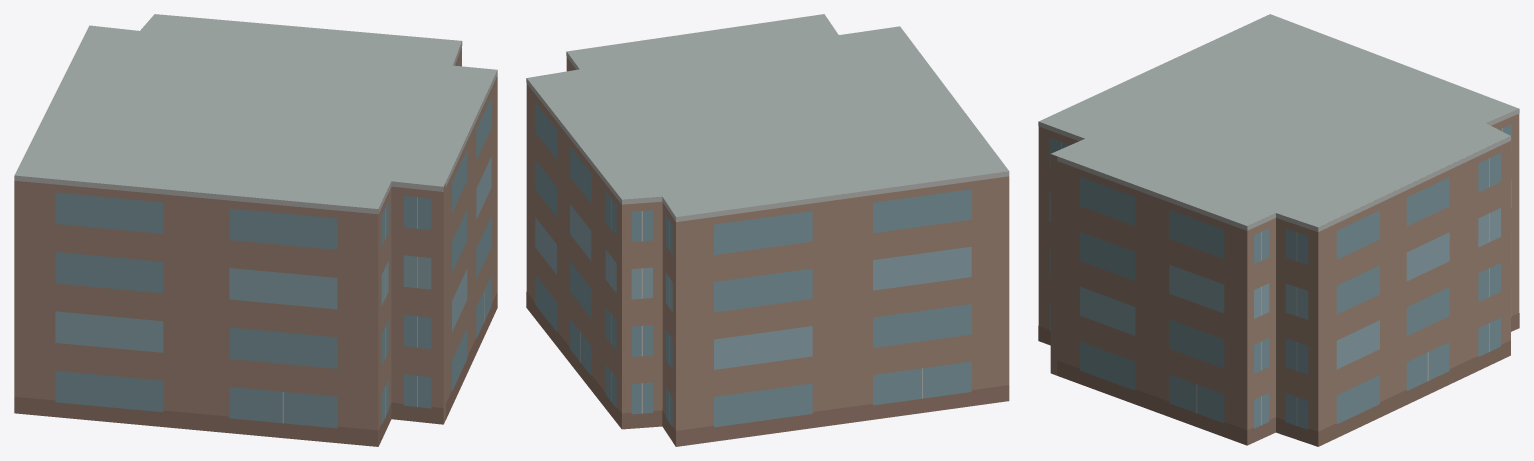
The model's file is survey-upis-32524465.glb.
The picture shows the model from 3 angles, left to right: view 1: azimuth 30°, elevation 25°; view 2: azimuth 150°, elevation 25°; view 3: azimuth 270°, elevation 25°; orthographic projection. The views are drawn at different scales.
Visible parts, largest first — view 1: survey-upis-32524465.tmp; view 2: survey-upis-32524465.tmp; view 3: survey-upis-32524465.tmp.
Boxes of the visible parts, box(x1,y1,x2,y2) form: survey-upis-32524465.tmp: box(14, 14, 497, 446); survey-upis-32524465.tmp: box(526, 14, 1009, 446); survey-upis-32524465.tmp: box(1038, 14, 1519, 446).
Bounding box in the file's own units: 23.36 × 11.2 × 22.25.
